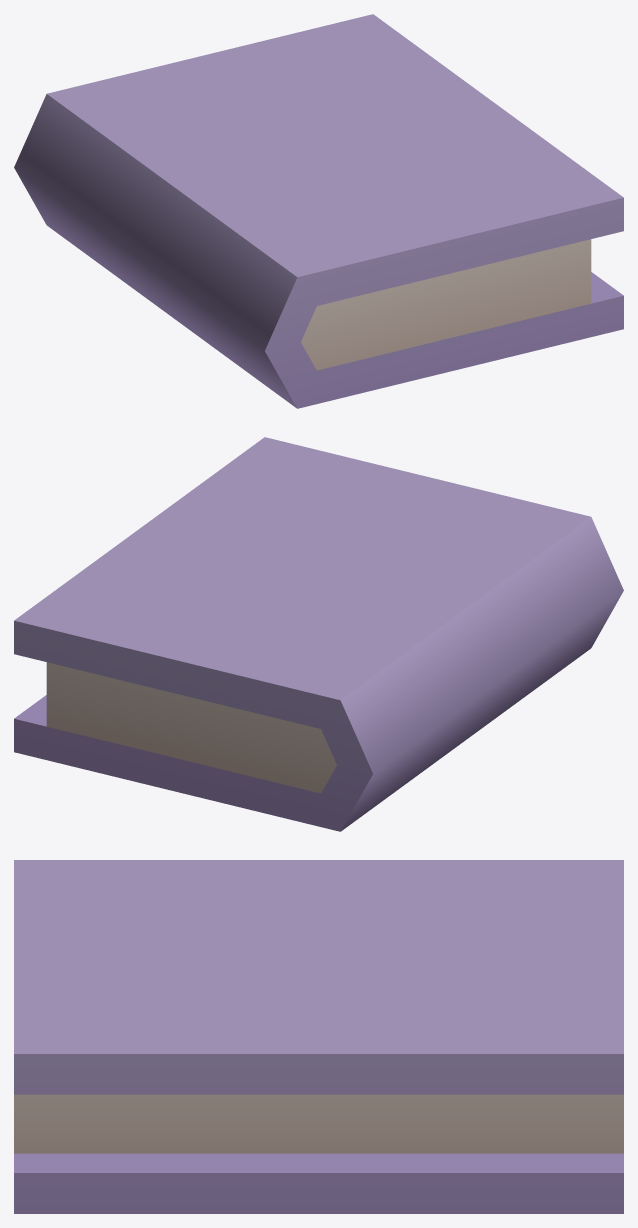
The model's file is book-laying.glb.
The picture shows the model from 3 angles, top to bottom: view 1: azimuth 30°, elevation 25°; view 2: azimuth 150°, elevation 25°; view 3: azimuth 270°, elevation 25°; orthographic projection. The views are drawn at different scales.
Visible parts, largest first — view 1: book-laying; view 2: book-laying; view 3: book-laying.
Boxes of the visible parts, x1,y1,x2,y2 form: book-laying: [14, 14, 623, 408]; book-laying: [14, 437, 623, 831]; book-laying: [14, 860, 623, 1213].
Bounding box in the file's own units: 0.22 × 0.077 × 0.266.
